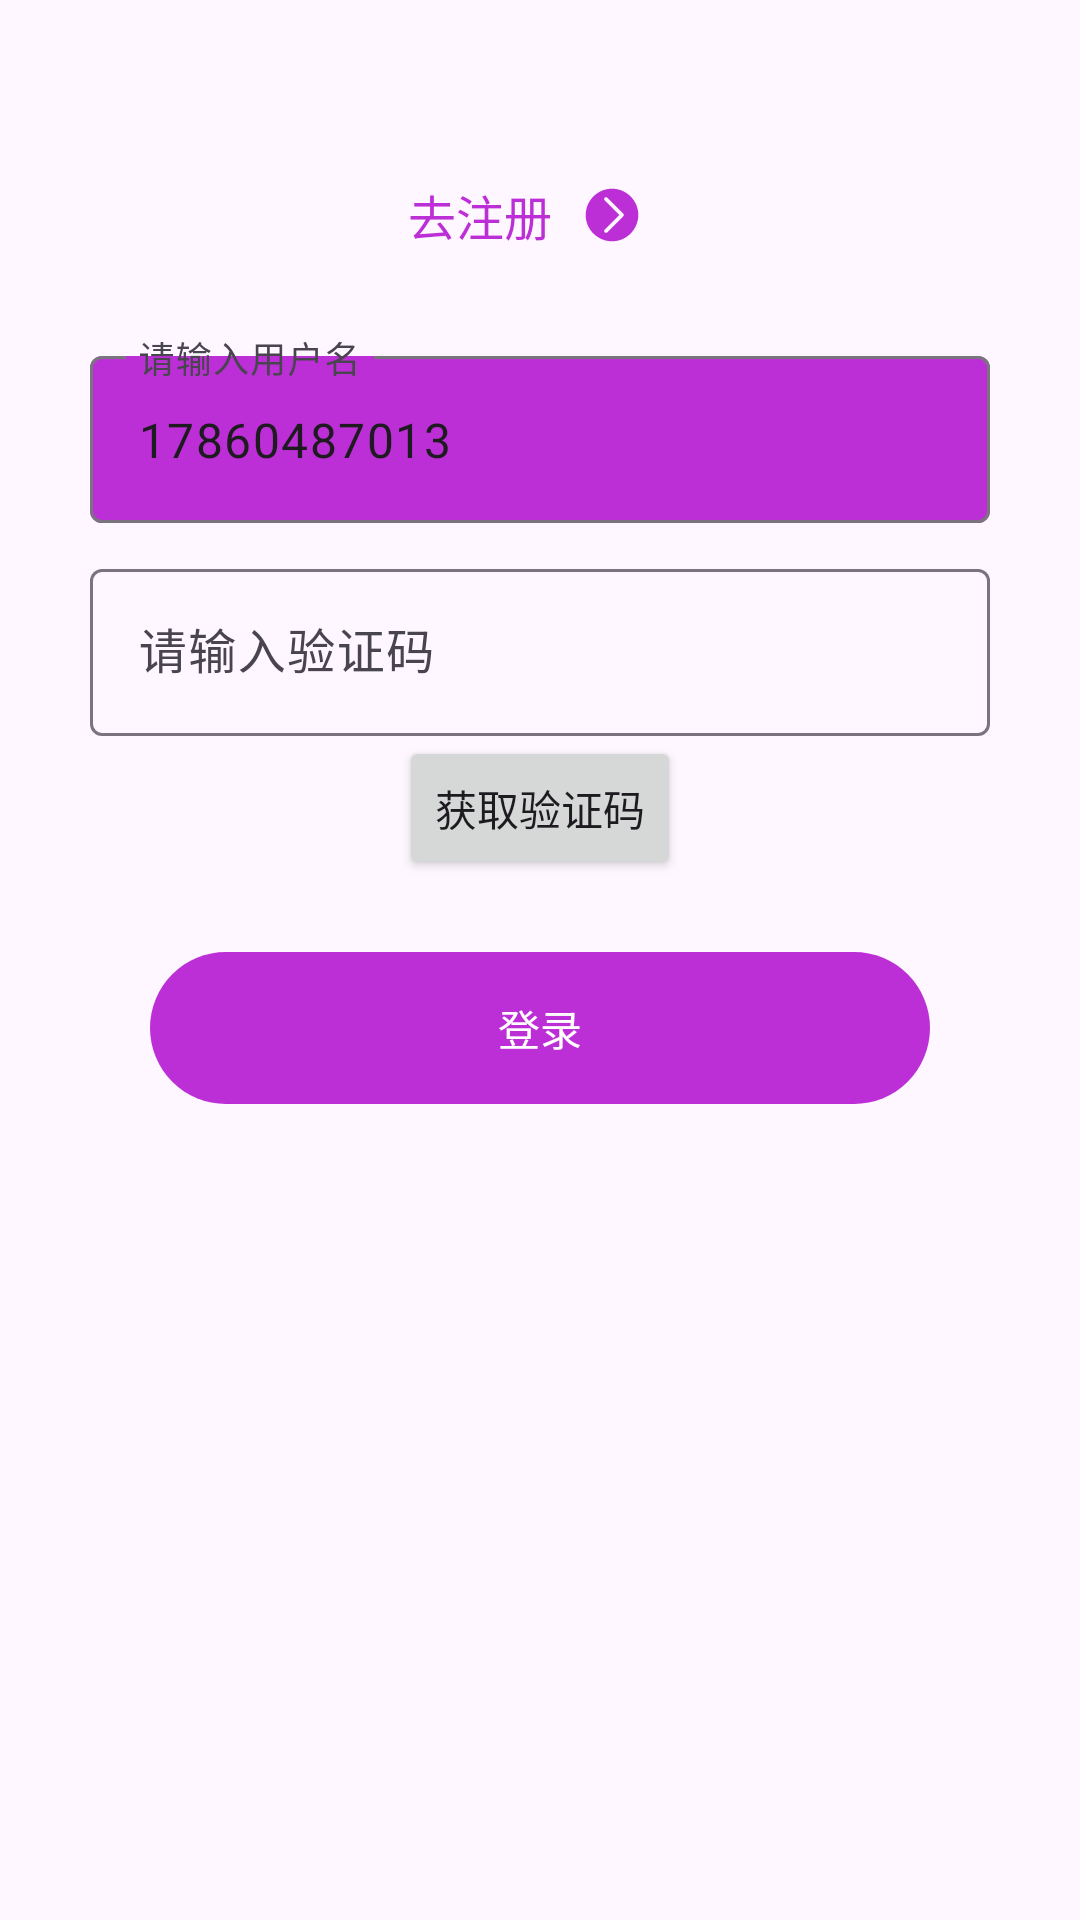

Icon click points for this 1080 × 1920 phone screenshot, format [x,y]:
gengduotianchong: [612,215]
